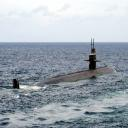submarine: (15, 39, 118, 90)
